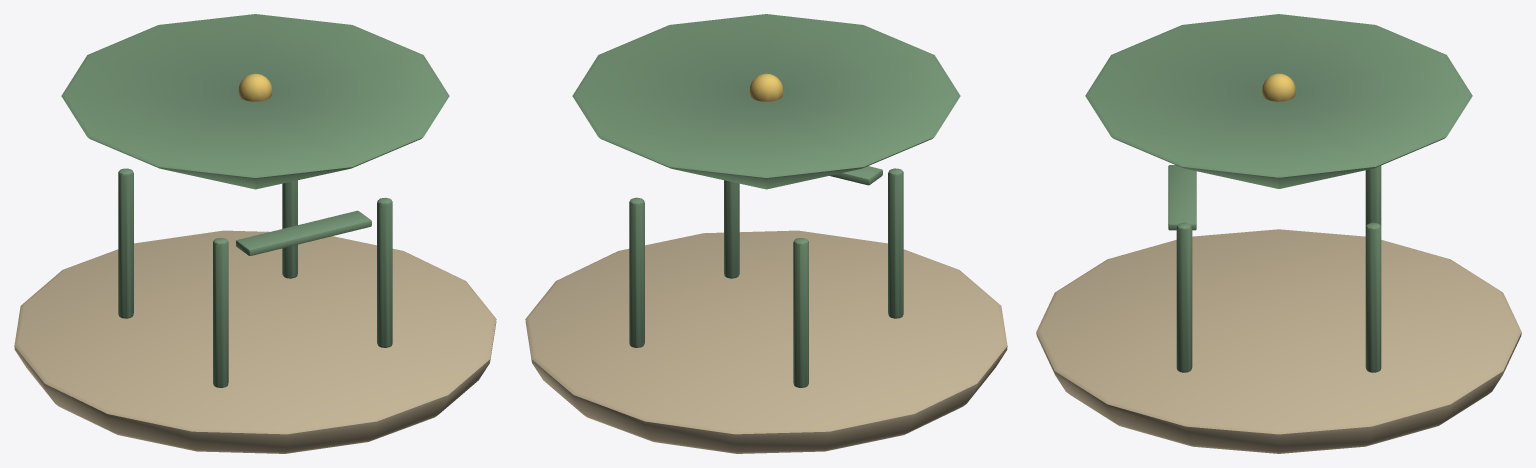
3 renders of one model, left to right at view 1: azimuth 30°, elevation 25°; view 2: azimuth 150°, elevation 25°; view 3: azimuth 270°, elevation 25°, orthographic.
Visible parts, largest first — view 1: landmark_8f6443a2; view 2: landmark_8f6443a2; view 3: landmark_8f6443a2.
Boxes of the visible parts, <box> form: landmark_8f6443a2: <box>14,14,496,453</box>; landmark_8f6443a2: <box>525,14,1007,453</box>; landmark_8f6443a2: <box>1036,14,1521,453</box>.
Bounding box in the file's own units: 5.13 × 3.33 × 5.13.
